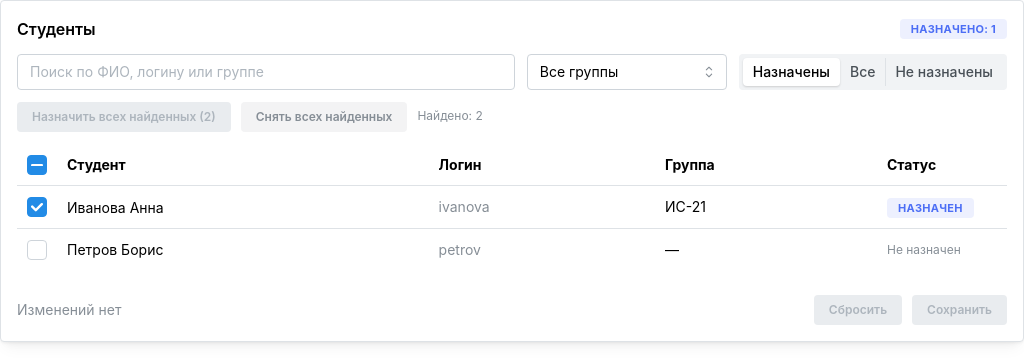
Test: StudentAssignmentCard › «Сбросить» отменяет несохранённые правки
The width and height of the screenshot is (1024, 362).
Click the checkbox named "Назначить: Петров Борис": (37,250) [27, 240, 47, 260]
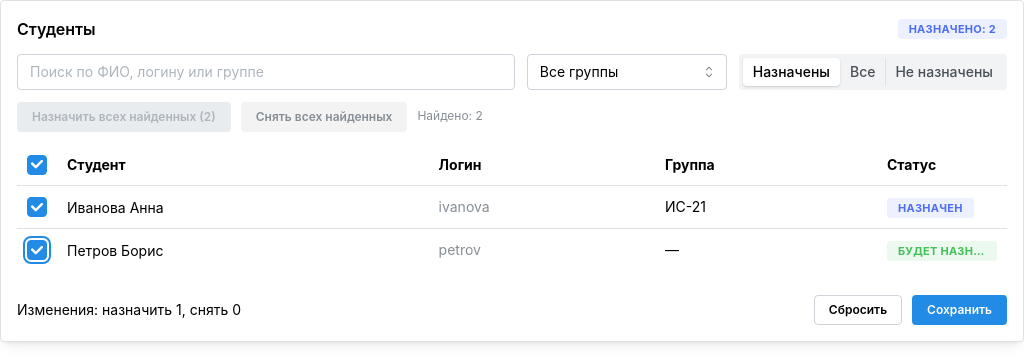
Click the button "Сбросить": (858,310) [814, 296, 902, 326]
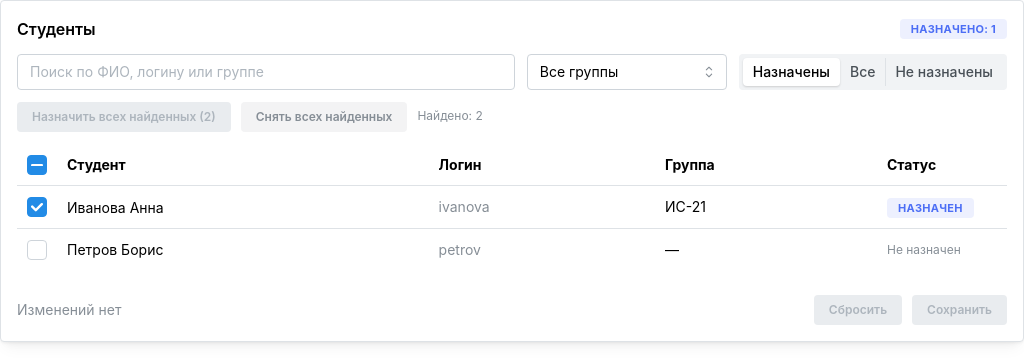
Result: the text "Изменений нет" is shown at [17, 300, 122, 320]
